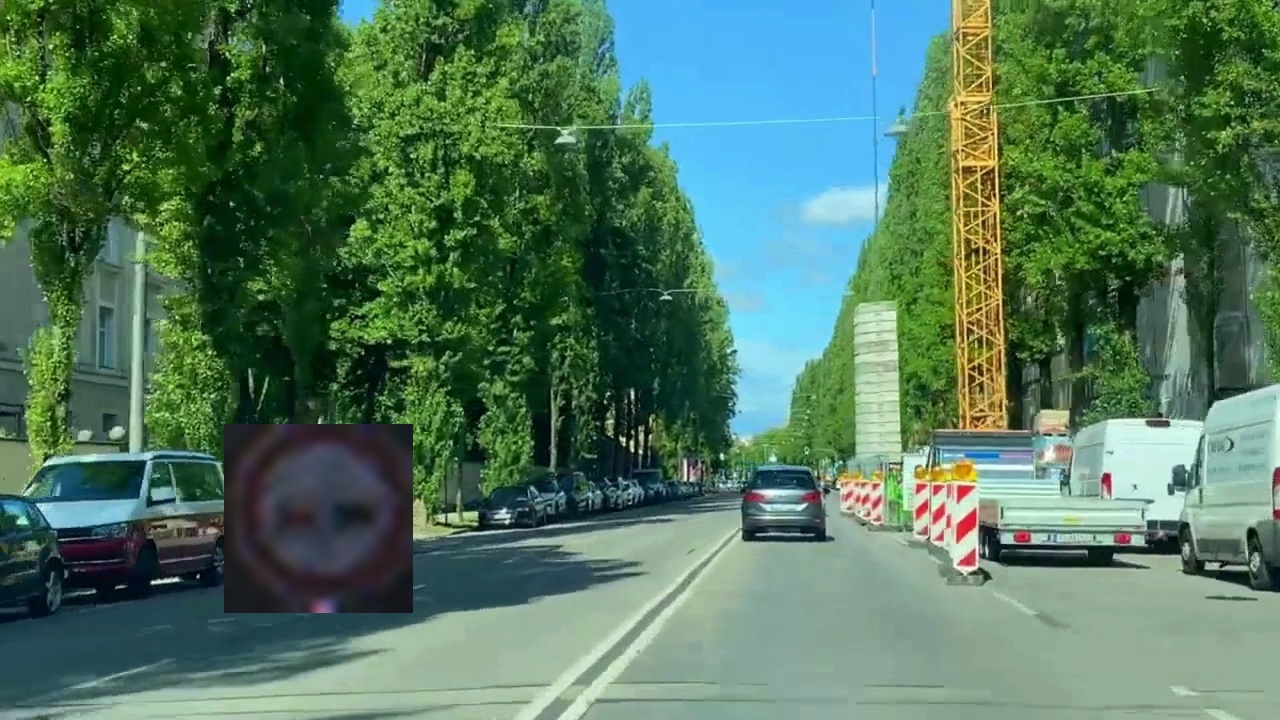No passing: (224, 424, 413, 613)
